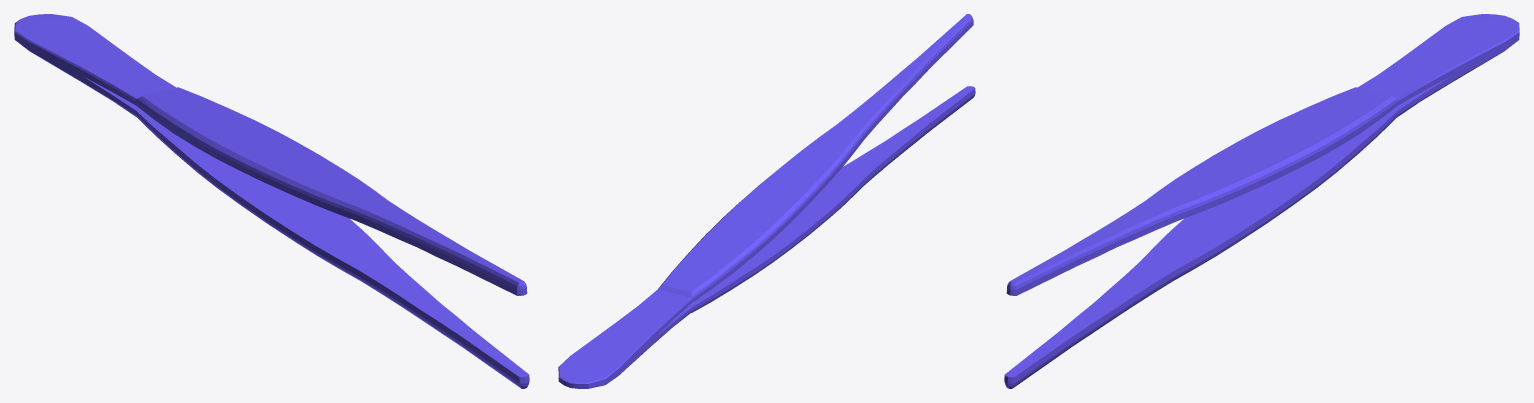
The model's file is Forceps_pincettes.fbx.
3 views of the same model, side by side, from view 1: azimuth 30°, elevation 25°; view 2: azimuth 150°, elevation 25°; view 3: azimuth 330°, elevation 25° (orthographic). The views are drawn at different scales.
Parts seen in each view (by area): view 1: forceps_pincettes; view 2: forceps_pincettes; view 3: forceps_pincettes.
Part boxes in pixels (x1,y1,x2,y2): forceps_pincettes: (14, 14, 529, 388); forceps_pincettes: (558, 14, 975, 388); forceps_pincettes: (1004, 14, 1519, 388).
Bounding box in the file's own units: 1.17 × 1.78 × 15.39.
